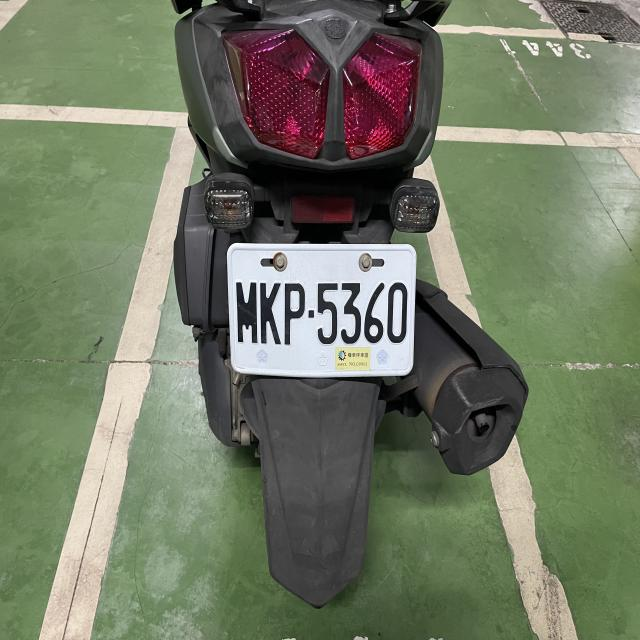license-plate: (224, 240, 417, 378)
